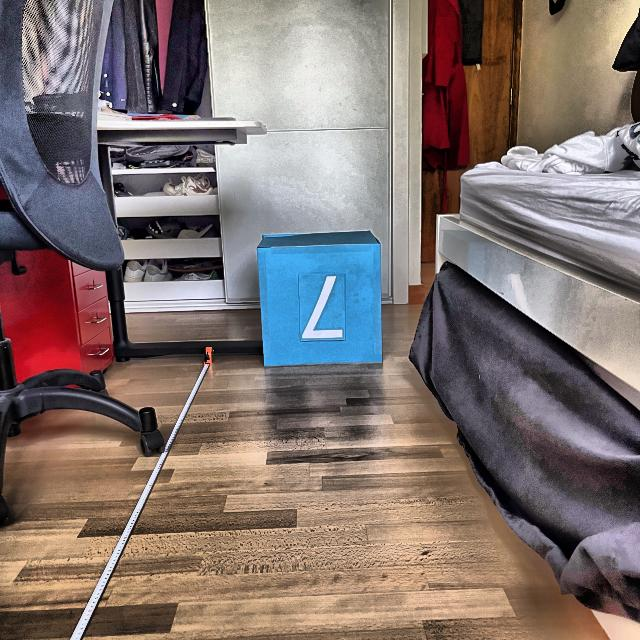blue box: (256, 227, 385, 370)
seven: (299, 275, 345, 341)
